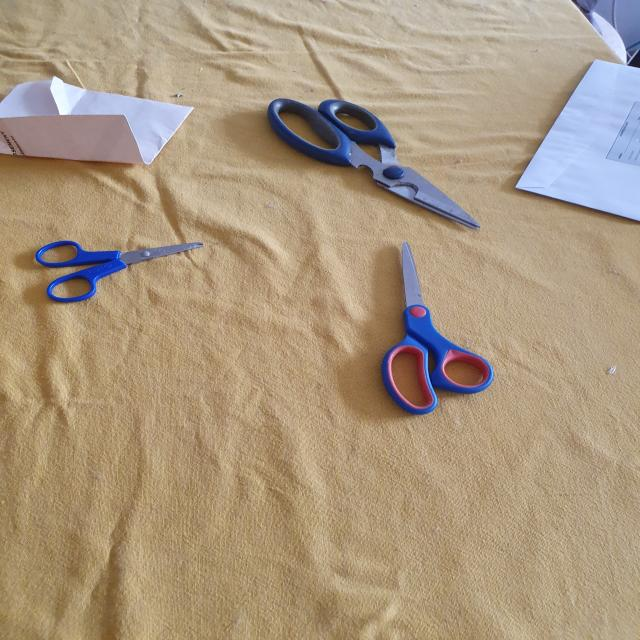scissors: (263, 98, 481, 228), (377, 239, 500, 416), (32, 237, 208, 307)
